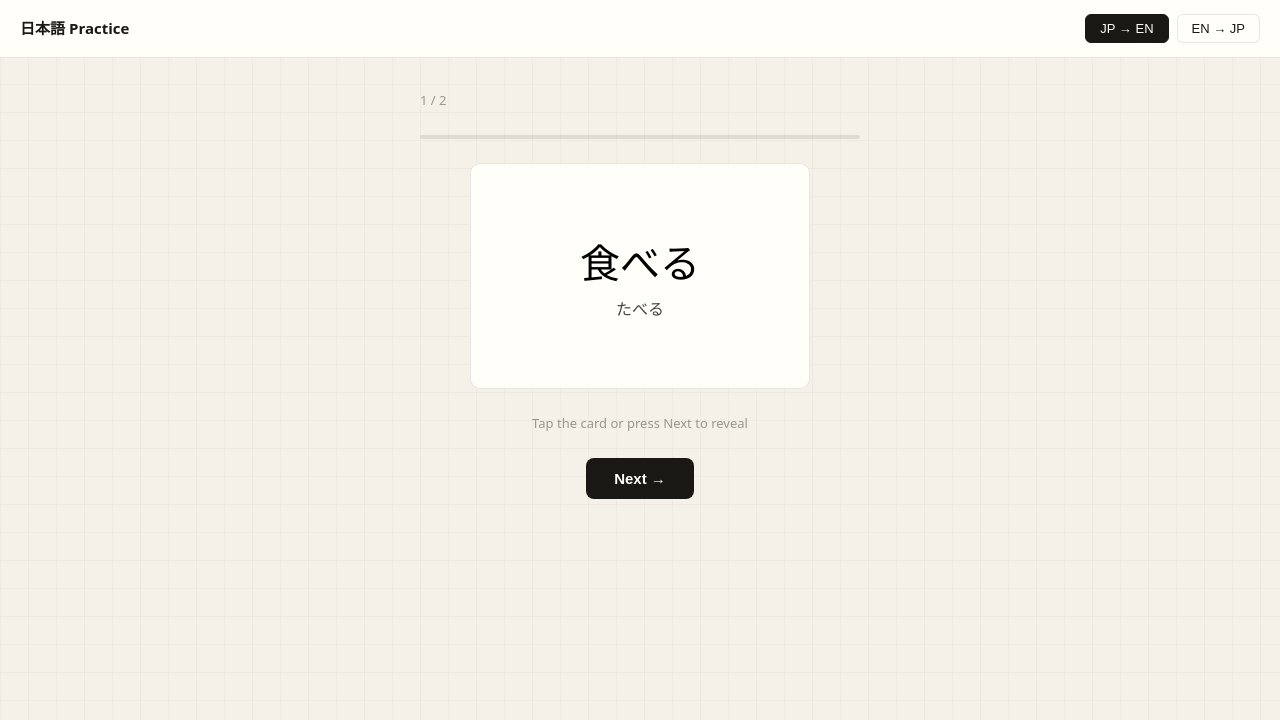
Test case: VocabularyPractice › shows meaning front in EN→JP mode
Click the button "EN → JP" at (1218, 28), box 1176,14 -> 1260,43
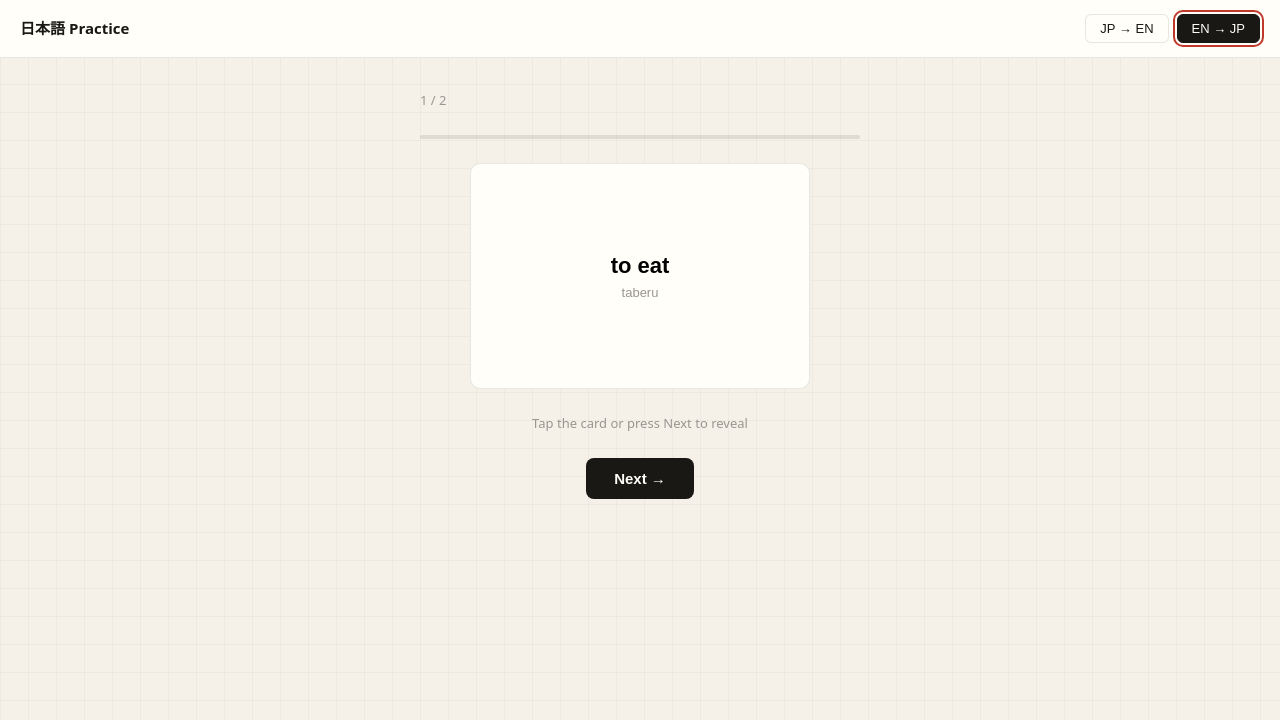
Now the text "to eat" is shown, box 611,253 -> 669,279
